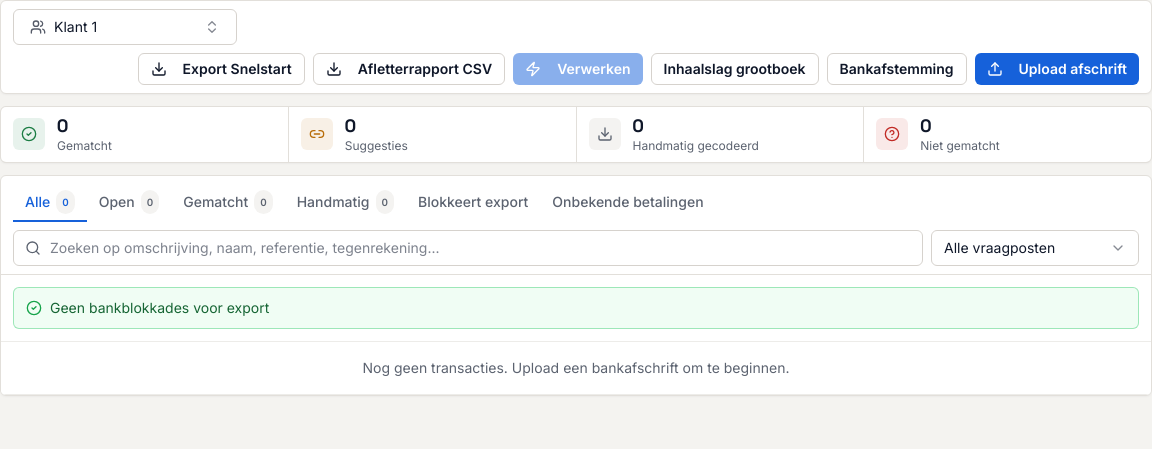
Test: Bank pagina UI › toont confidence-pills enkel bij statusfilter Open
The width and height of the screenshot is (1152, 449).
Expected: the text "≥90%" is not shown
Note: Switch to Open tab — Radix Tabs fires onValueChange via onMouseDown
Press the mouse on the tab "Open 0" at (129, 202), box 87,184 -> 171,222
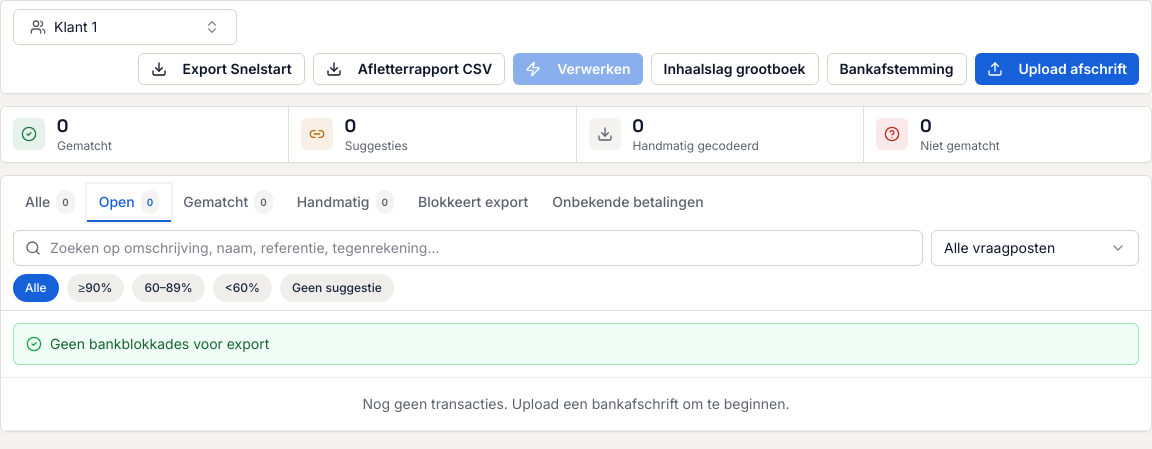
Expected: the button "≥90%" is shown, 67,274 -> 124,302
Expected: the button "60–89%" is shown, 132,274 -> 205,302
Expected: the button "Geen suggestie" is shown, 280,274 -> 394,302
